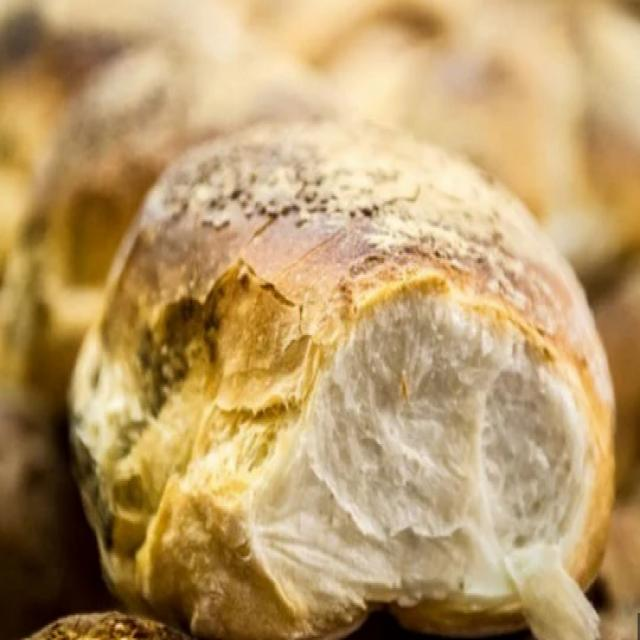Maltese-Bread: (70, 117, 613, 638)
